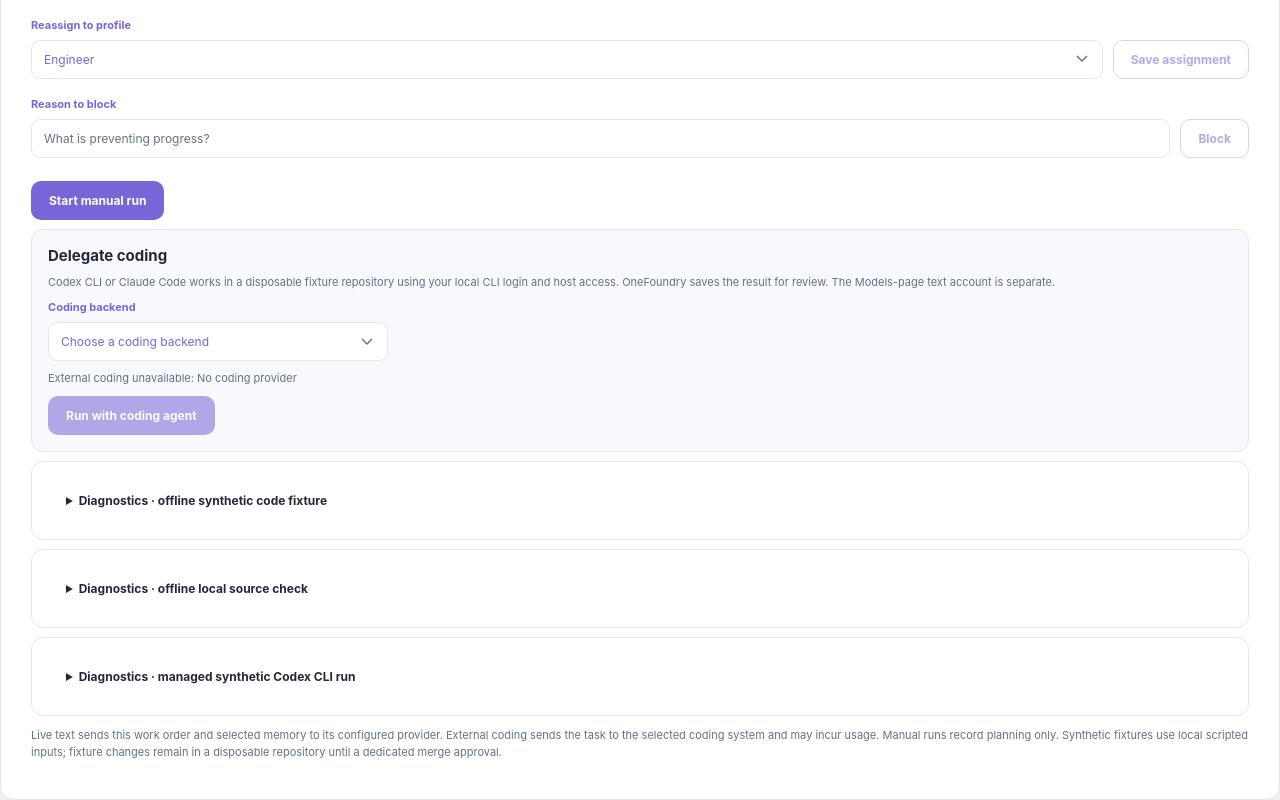
Test: shows offline eligibility independently and blocks an unavailable probe
(page scrolled)
Click the heading "Diagnostics · offline local source check".
click(193, 588)  # box [79,581,308,596]
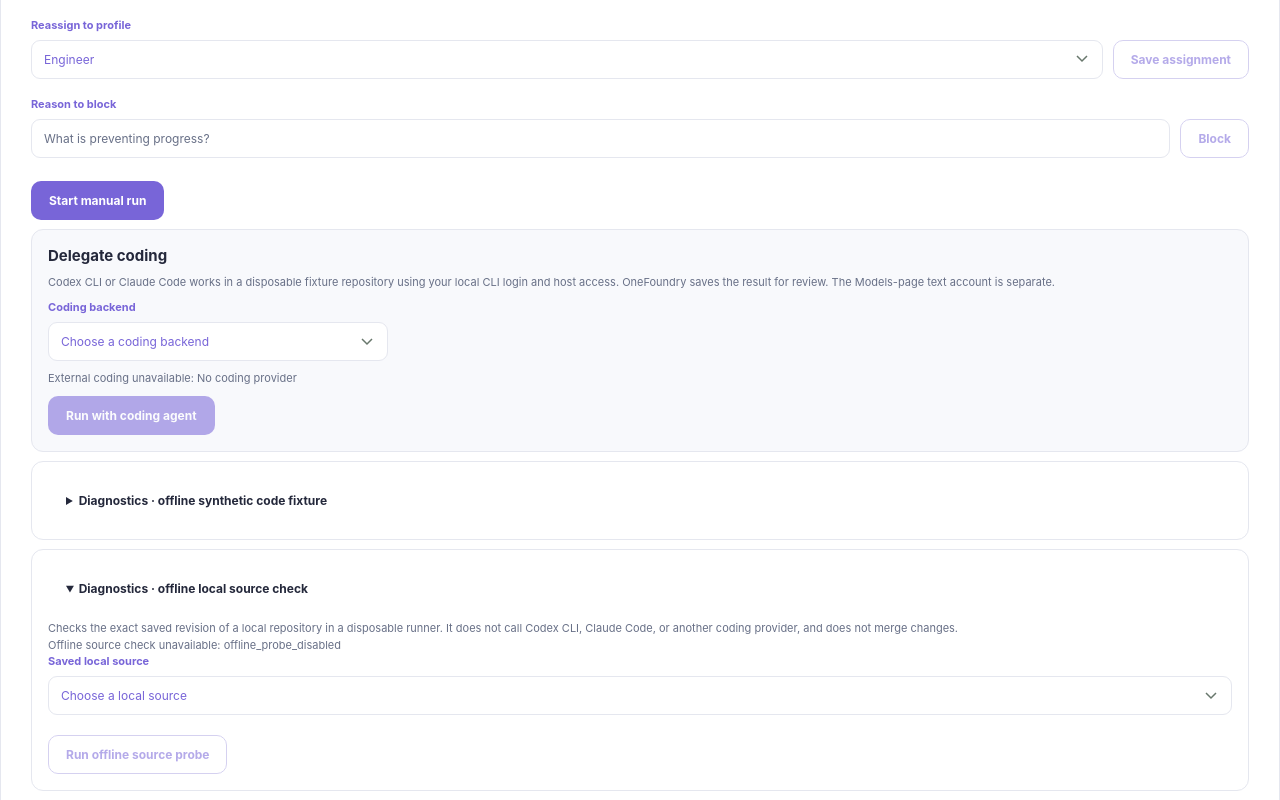
Select "parser · main" in the dropdown labelled "Saved local source" at [640, 696], box [48,676,1232,715]
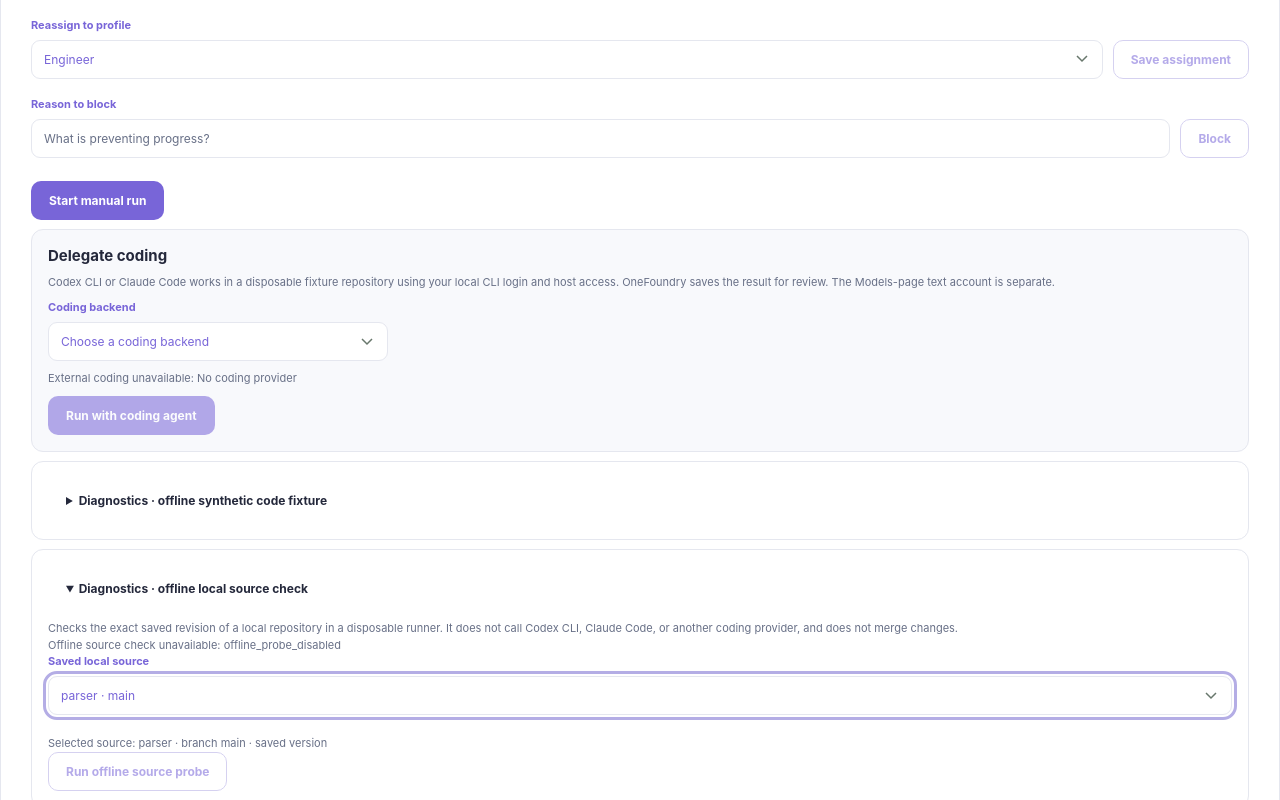
Expected: the text "Offline source check unavailable: offline_probe_disabled" is shown, [48,638,341,652]
Expected: the button "Run offline source probe" is disabled, [48,752,228,791]
Expected: the text "Selected source: parser · branch main · saved version" is shown, [48,736,327,750]
